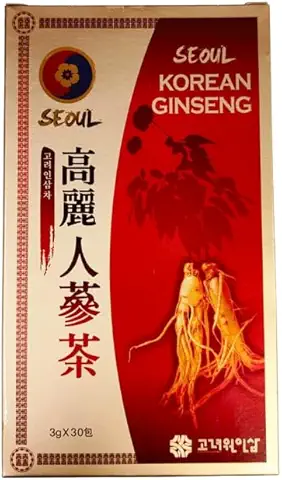Tea: (6, 4, 282, 480)
